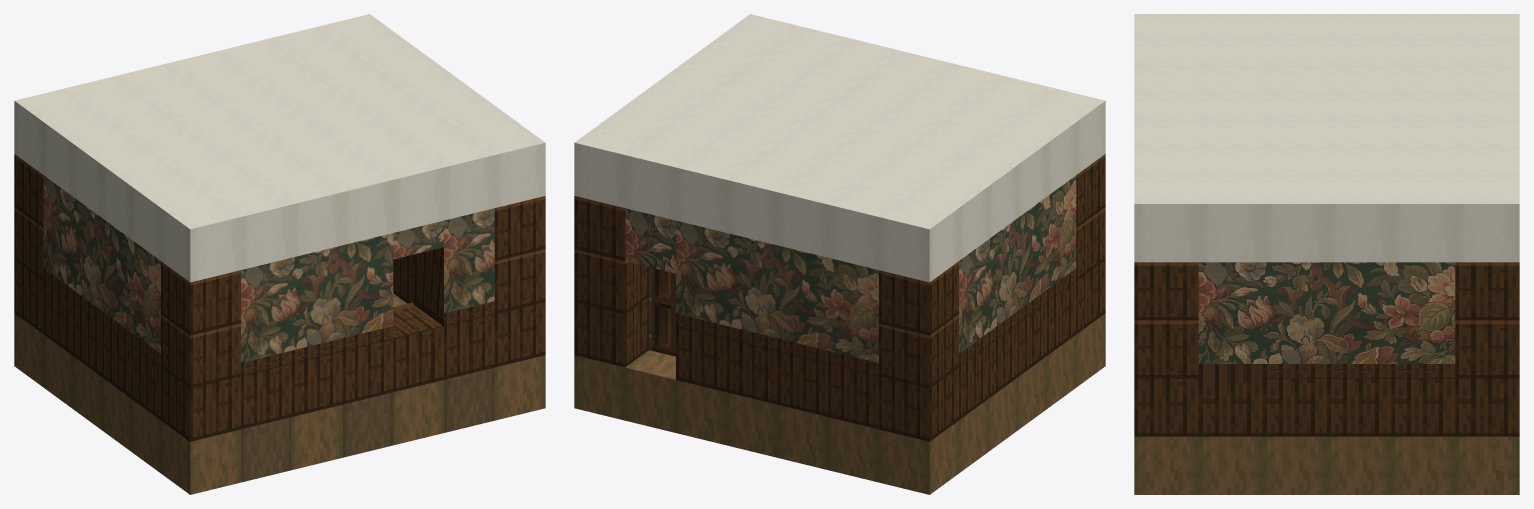
File: study.gltf
3 views of the same model, side by side, from view 1: azimuth 30°, elevation 25°; view 2: azimuth 150°, elevation 25°; view 3: azimuth 270°, elevation 25° (orthographic). The views are drawn at different scales.
Visible parts, largest first — view 1: cube (×81); view 2: cube (×80); view 3: cube (×63).
Boxes of the visible parts, x1,y1,x2,y2 form: cube (×81): (14,14,545,494); cube (×80): (574,14,1105,494); cube (×63): (1134,14,1519,494).
Bounding box in the file's own units: 1.75 × 1.25 × 1.5.
Materials: 8 (8 with a texture image).
